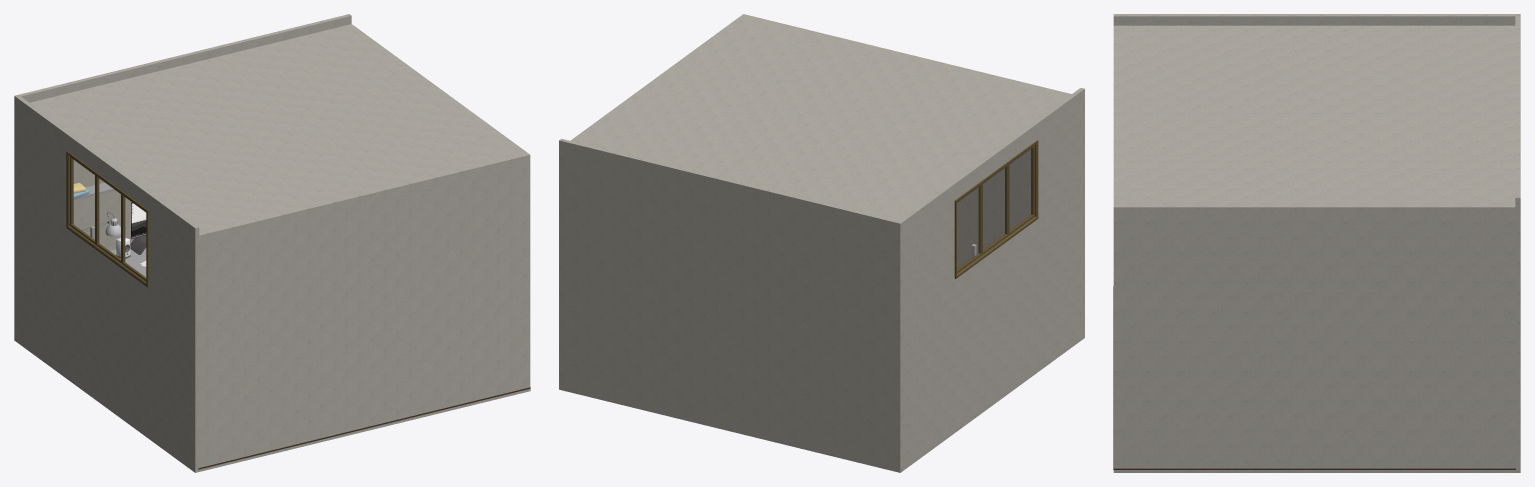
Rendered from mac2.glb.
3 renders of one model, left to right at view 1: azimuth 30°, elevation 25°; view 2: azimuth 150°, elevation 25°; view 3: azimuth 270°, elevation 25°, orthographic. The views are drawn at different scales.
Parts seen in each view (by area): view 1: Object_51, Object_49, Object_85, Object_83, Cube; view 2: Object_49, Object_51, Object_85; view 3: Object_51, Object_49, Cube.
Part boxes in pixels (box(x1,y1,x2,y2)): Object_51: box(29, 24, 530, 467); Object_49: box(14, 14, 530, 472); Object_85: box(66, 151, 148, 287); Object_83: box(73, 182, 146, 277); Cube: box(198, 387, 530, 469); Object_49: box(559, 88, 1084, 472); Object_51: box(570, 14, 1071, 268); Object_85: box(954, 140, 1038, 278); Object_51: box(1113, 25, 1516, 469); Object_49: box(1113, 14, 1520, 472); Cube: box(1113, 286, 1515, 469).
Size of what is drawn, in the model's own units: 10.63 by 7.39 by 9.91.
76 materials, 15 textured.
